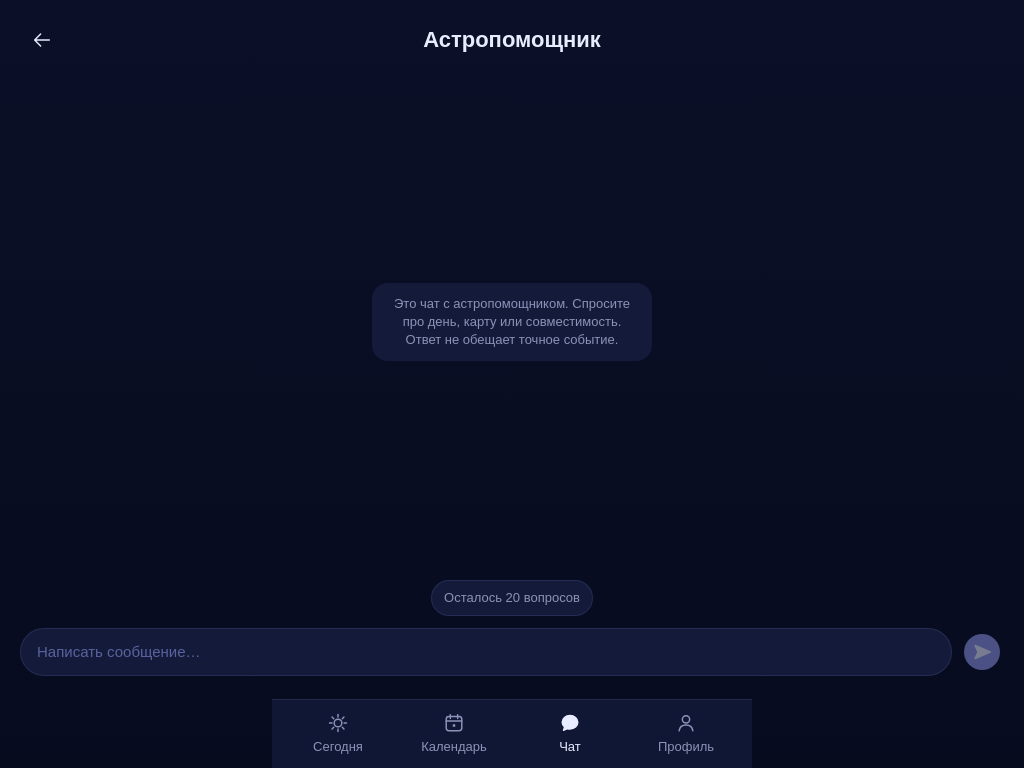
screens › keeps one assistant reply and the server quota
Expected: the text "Осталось 20 вопросов" is shown, [431, 580, 593, 616]
Type "Что вечером?" into the field labelled "Написать сообщение…" at x=486, y=652, box [20, 628, 952, 676]
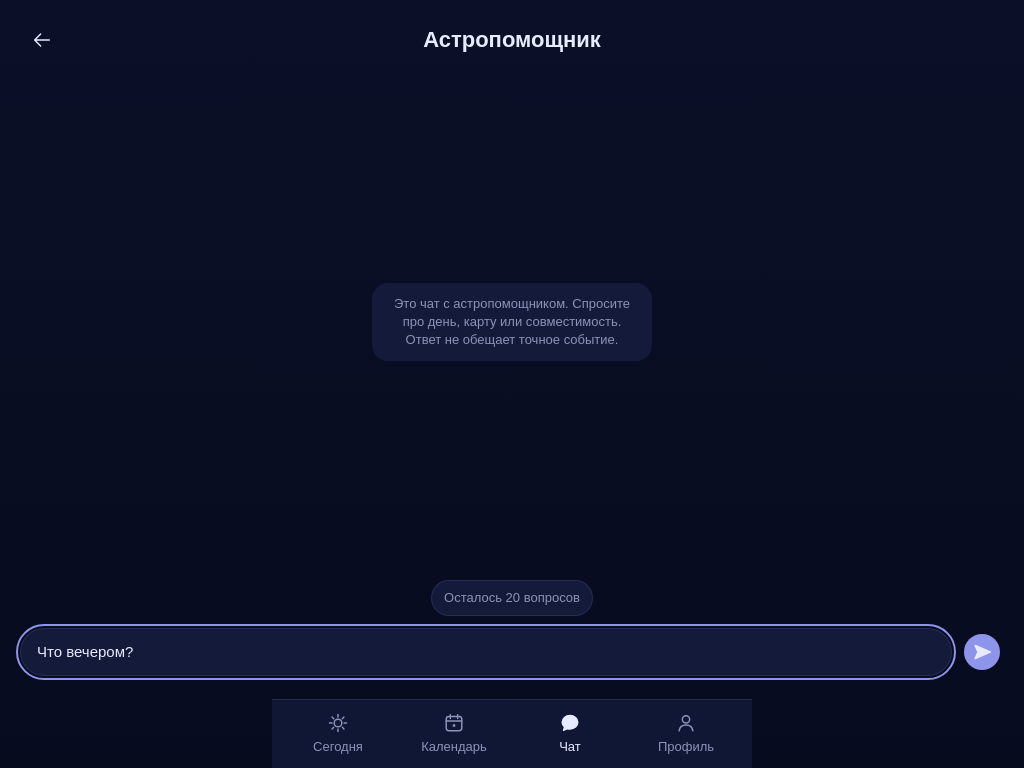
Click the button named "Отправить" at x=982, y=652, box [960, 630, 1004, 674]
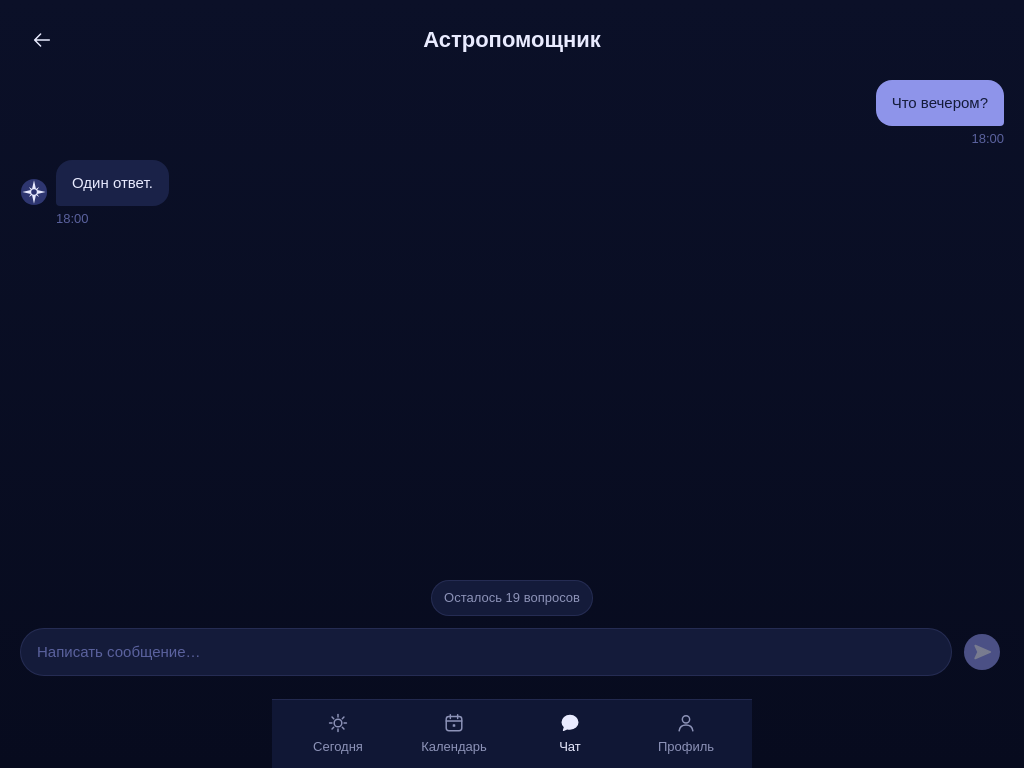
Result: the text "Осталось 19 вопросов" is shown at [431, 580, 593, 616]
Result: the text "Один ответ." is shown once at [56, 160, 169, 206]
Result: the text "Осталось 20 вопросов" is gone
